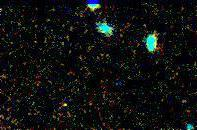star: (51, 86, 81, 116)
